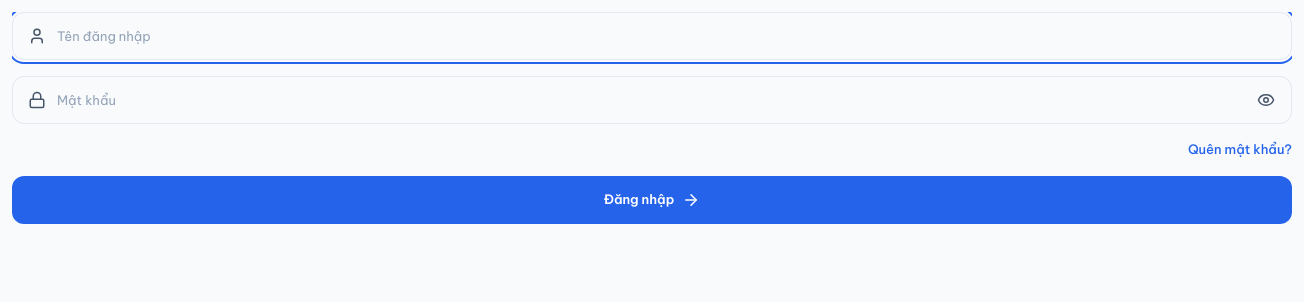
it: LoginForm › tài khoản bị khoá → thông báo riêng
The width and height of the screenshot is (1304, 302).
Type "nam" into the field labelled "Tên đăng nhập". click: (652, 36)
box: [12,12,1292,60]
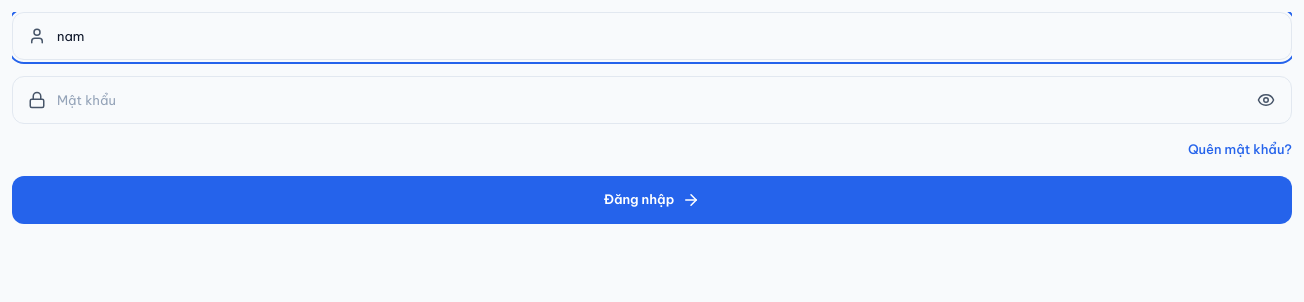
Type "Xuong2026" into the password field labelled "Mật khẩu". click: (652, 100)
box: [12,76,1292,124]
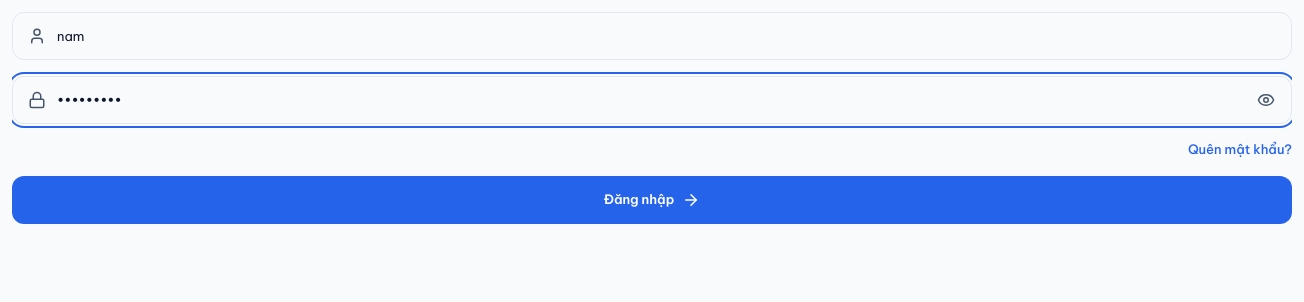
Click the button "Đăng nhập". click: (652, 200)
box: [12,176,1292,224]
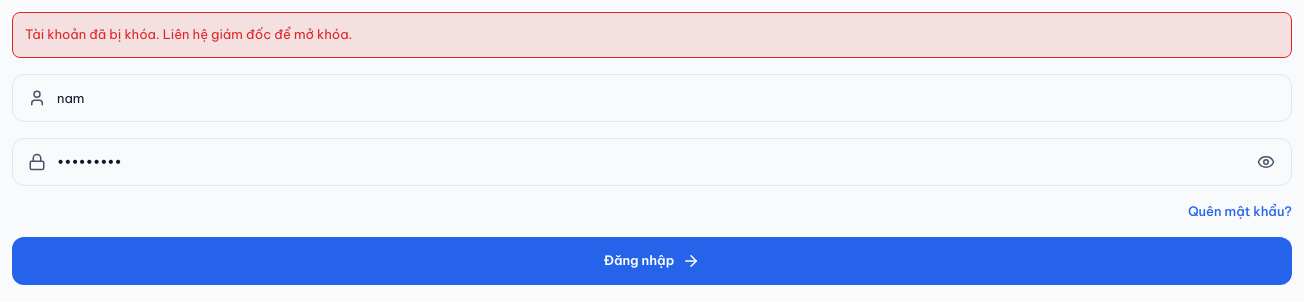
Expected: the message reads "Tài khoản đã bị khóa. Liên hệ giám đốc để mở khóa.", [25,26,352,42]
